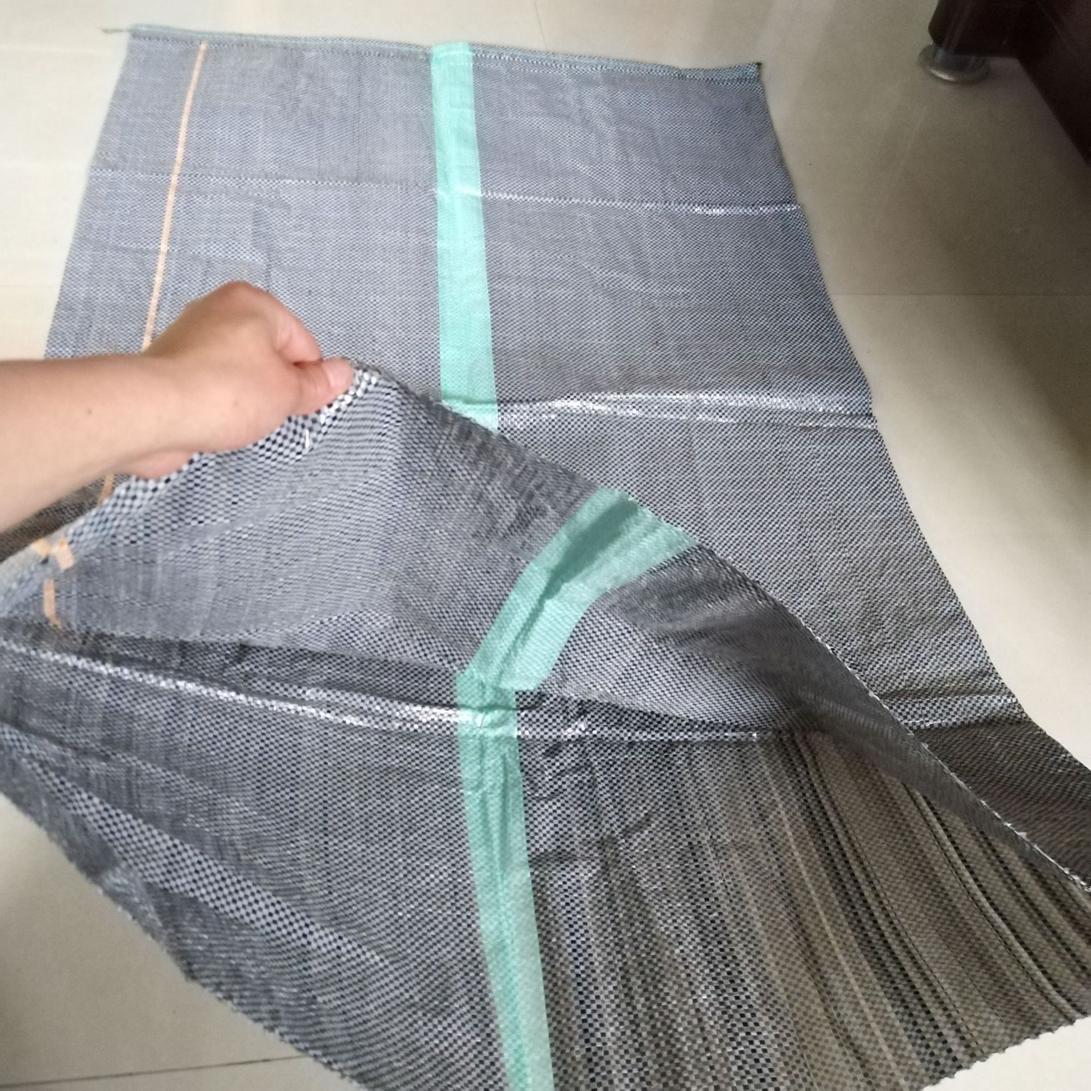塑料袋: (0, 29, 1091, 1089)
